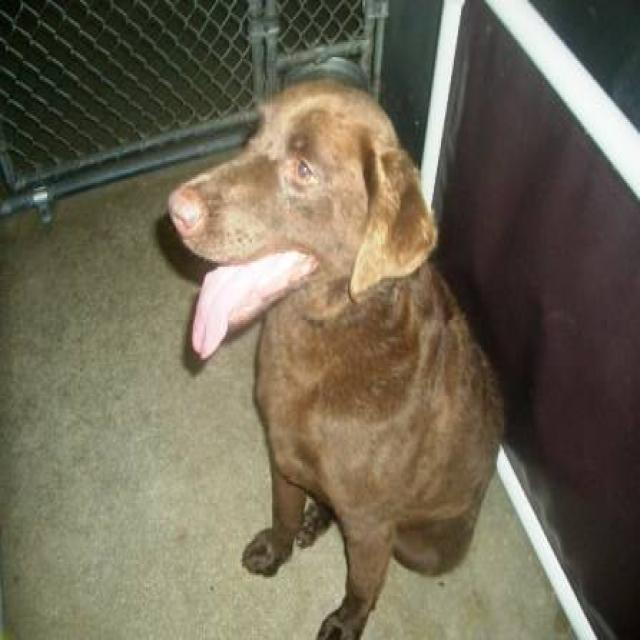dog: (166, 76, 507, 638)
